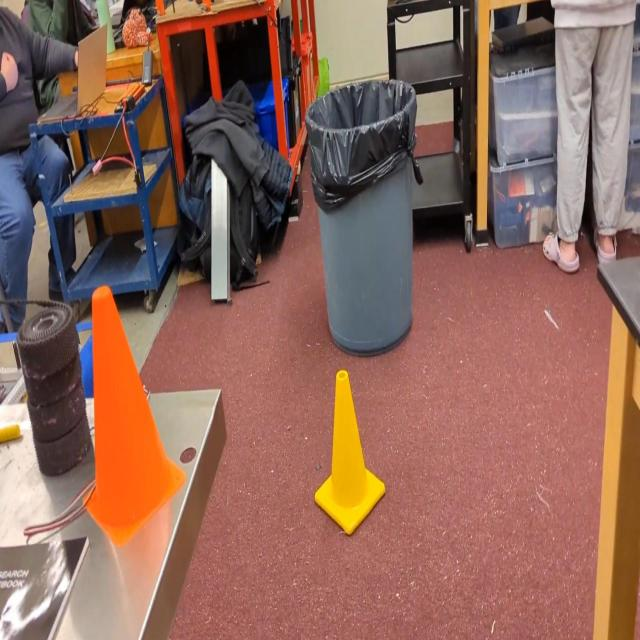frc_cone: (315, 370, 387, 534)
